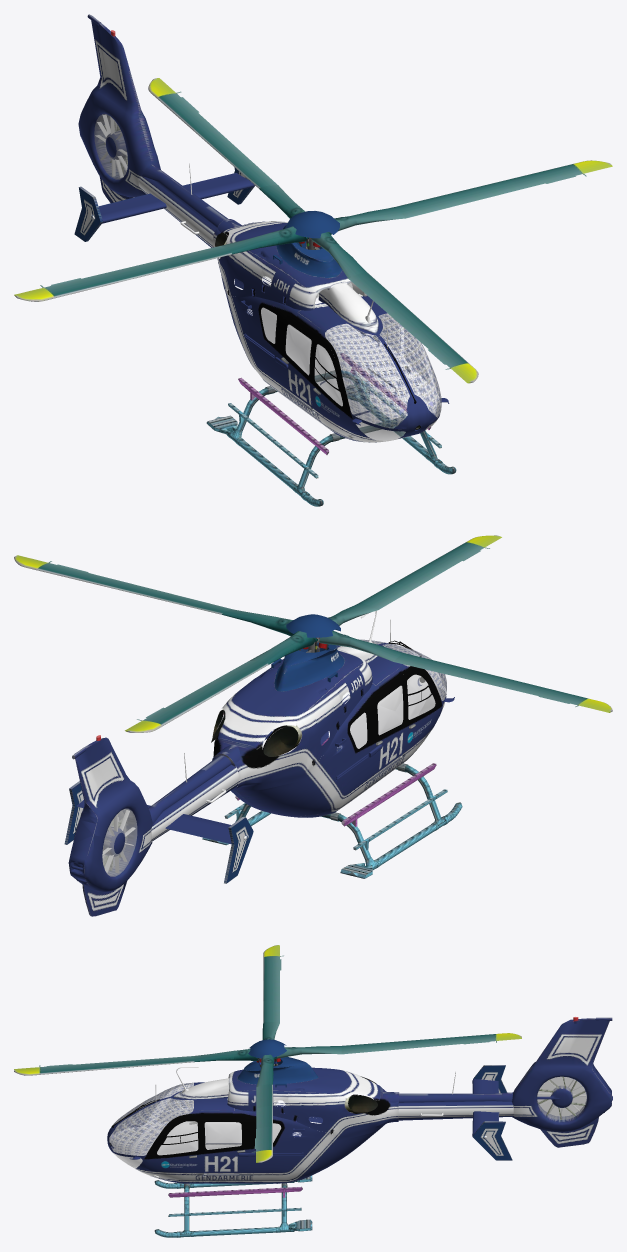
Rendered from gendarmerie.gltf.
3 views of the same model, one above another, from view 1: azimuth 30°, elevation 25°; view 2: azimuth 150°, elevation 25°; view 3: azimuth 270°, elevation 25° (orthographic). The views are drawn at different scales.
Visible parts, largest first — view 1: Exterior, Spin_12, Spin_22, Spin_7, Spin_17, Spin_0, Spin_20, Spin_15, Spin_21, Spin_16, Spin_5, Spin_11 (+2 smaller); view 2: Exterior, Spin_22, Spin_7, Spin_12, Spin_17, Spin_0, Spin_10, Spin_15, Spin_11, Spin_16, Spin_21, Spin_6 (+4 smaller); view 3: Exterior, Spin_17, Spin_7, Spin_22, Spin_12, Spin_0, Spin_5, Spin_6.
Boxes of the visible parts, bbox=[...] form: Exterior: bbox=[74, 14, 456, 506]; Spin_12: bbox=[14, 273, 117, 301]; Spin_22: bbox=[510, 160, 612, 189]; Spin_7: bbox=[148, 78, 212, 130]; Spin_17: bbox=[414, 331, 478, 383]; Spin_0: bbox=[287, 211, 339, 238]; Spin_20: bbox=[396, 192, 463, 218]; Spin_15: bbox=[348, 272, 400, 307]; Spin_21: bbox=[454, 179, 519, 203]; Spin_16: bbox=[382, 302, 432, 336]; Spin_5: bbox=[225, 155, 277, 188]; Spin_11: bbox=[107, 259, 173, 282]; Exterior: bbox=[64, 610, 462, 916]; Spin_22: bbox=[14, 555, 113, 585]; Spin_7: bbox=[125, 699, 199, 732]; Spin_12: bbox=[513, 682, 612, 712]; Spin_17: bbox=[428, 535, 501, 569]; Spin_0: bbox=[286, 614, 340, 637]; Spin_10: bbox=[393, 653, 464, 675]; Spin_15: bbox=[359, 583, 412, 609]; Spin_11: bbox=[454, 668, 522, 689]; Spin_16: bbox=[395, 564, 446, 589]; Spin_21: bbox=[103, 579, 171, 599]; Spin_6: bbox=[180, 680, 233, 704]; Exterior: bbox=[107, 1017, 612, 1237]; Spin_17: bbox=[14, 1063, 94, 1075]; Spin_7: bbox=[441, 1033, 521, 1045]; Spin_22: bbox=[252, 1126, 272, 1162]; Spin_12: bbox=[263, 945, 283, 980]; Spin_0: bbox=[248, 1039, 286, 1058]; Spin_5: bbox=[341, 1042, 392, 1054]; Spin_6: bbox=[392, 1038, 441, 1049].
Size of the model in its own units: 10.1 by 4.3 by 11.86.
Materials: 13 (6 with a texture image).
